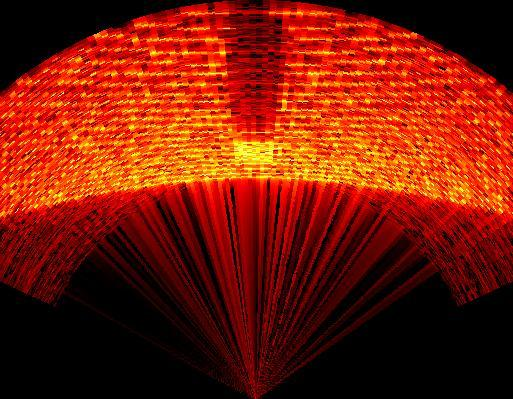box_crate: (226, 2, 291, 162)
